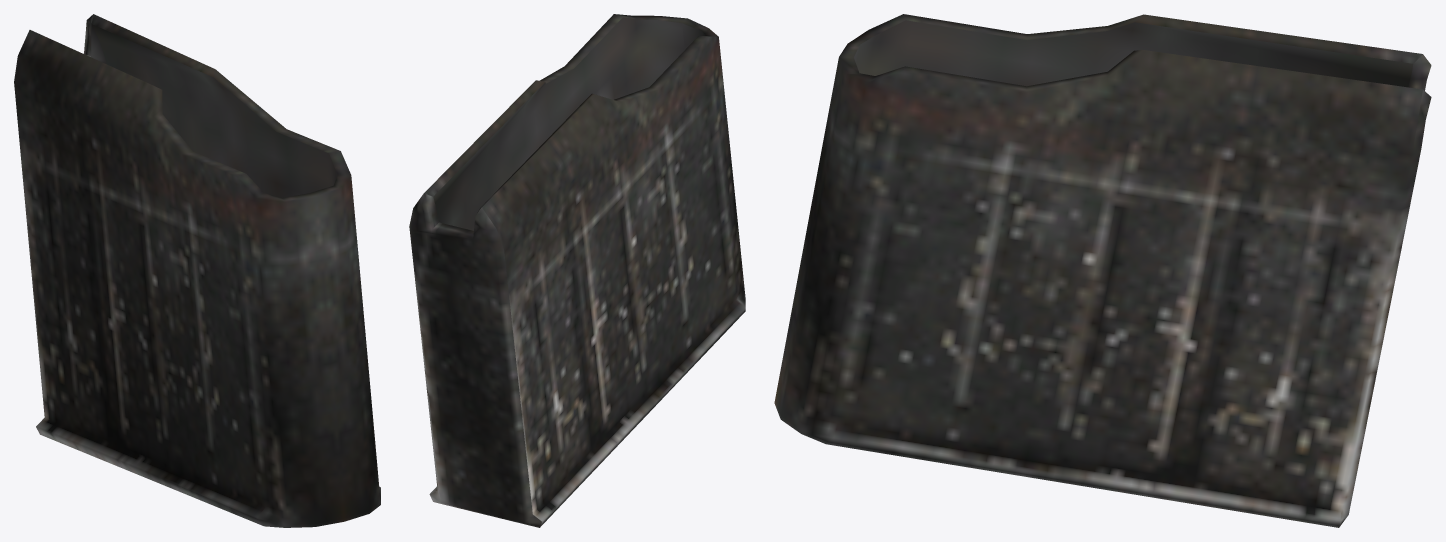
The model's file is mag.obj.
3 renders of one model, left to right at view 1: azimuth 30°, elevation 25°; view 2: azimuth 150°, elevation 25°; view 3: azimuth 270°, elevation 25°, orthographic. The views are drawn at different scales.
Visible parts, largest first — view 1: DrawCall_0024; view 2: DrawCall_0024; view 3: DrawCall_0024.
Part boxes in pixels (x1,y1,x2,y2): DrawCall_0024: (14,14,380,527); DrawCall_0024: (409,14,745,527); DrawCall_0024: (774,14,1431,527).
Size of the model in its own units: 0.0287 by 0.0895 by 0.1151.
1 material, 1 textured.
